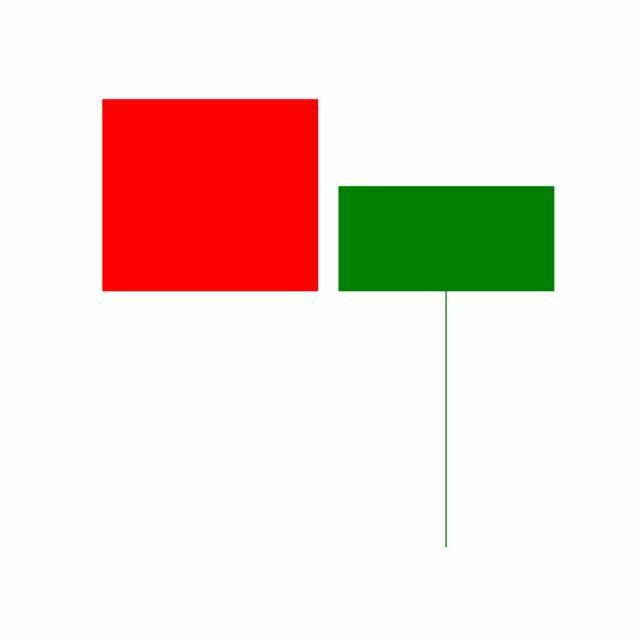Hammer: (328, 183, 566, 553)
